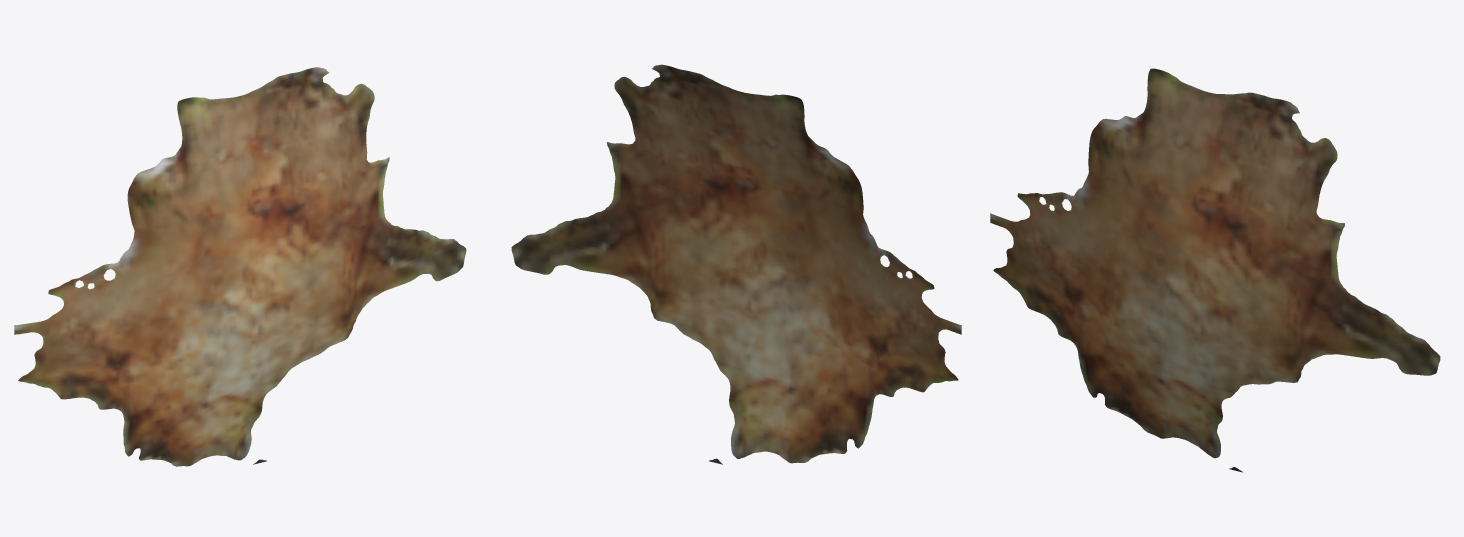
The model's file is flayed_skin_1.FBX.
3 renders of one model, left to right at view 1: azimuth 30°, elevation 25°; view 2: azimuth 150°, elevation 25°; view 3: azimuth 330°, elevation 25°, orthographic.
Parts seen in each view (by area): view 1: flayed_skin_1; view 2: flayed_skin_1; view 3: flayed_skin_1.
Boxes of the visible parts, x1,y1,x2,y2 form: flayed_skin_1: [14, 67, 466, 466]; flayed_skin_1: [511, 64, 961, 464]; flayed_skin_1: [990, 68, 1440, 472].
Bounding box in the file's own units: 162 × 133 × 10.2.
